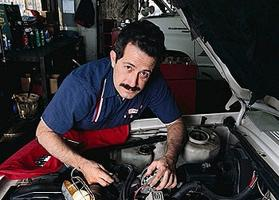person: (1, 17, 189, 195)
